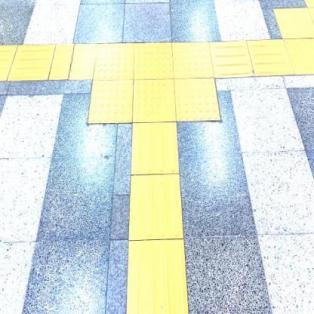Podoctatil: (55, 15, 257, 194), (133, 124, 188, 313), (0, 45, 94, 80), (215, 41, 285, 78)
